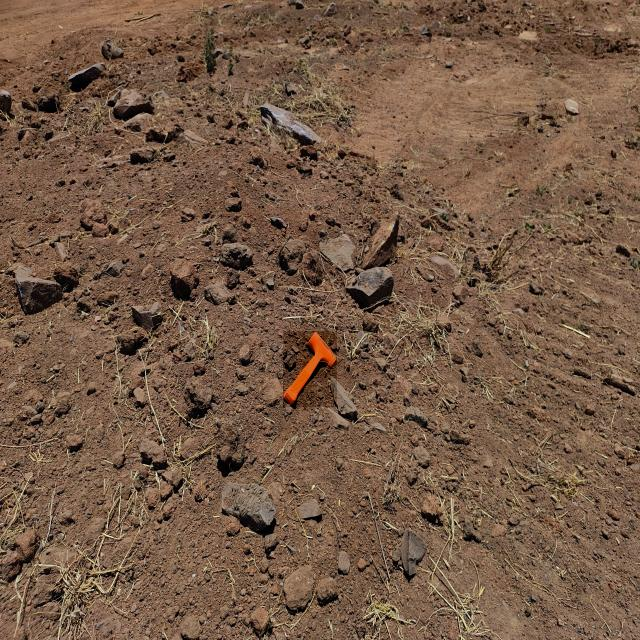Orange_hammer: (284, 332, 338, 408)
